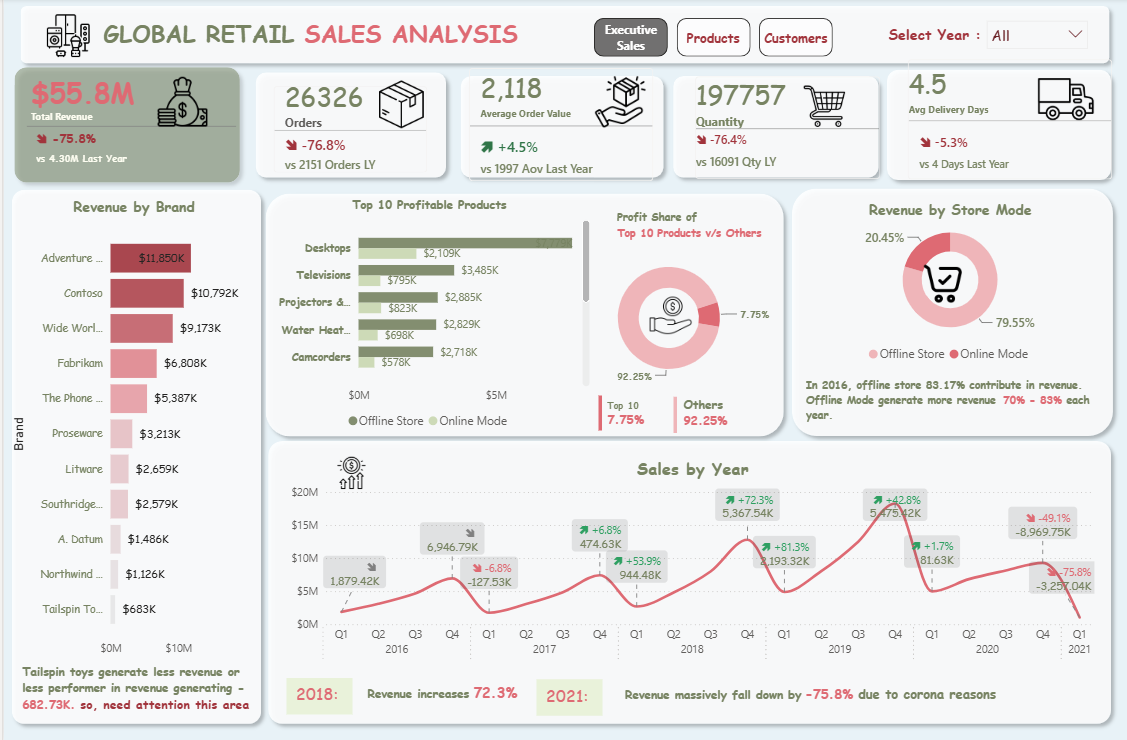

This screenshot's page, from the dashboard's own definition file:
{"tool":"powerbi","page":{"name":"Executive Sales ","canvas":[1280,850],"ordinal":0},"visuals":[{"type":"shape","box":[9.7,0,1258.3,83.2],"z":0},{"type":"shape","box":[2.8,69.8,274.9,149.5],"z":1000},{"type":"shape","box":[0,209.4,301.9,626.7],"z":2000},{"type":"shape","box":[277.7,75.5,235,138.2],"z":3000},{"type":"shape","box":[511.3,79.8,249,133.9],"z":4000},{"type":"cardVisual","fields":{"Data":["Key Measure.AOV"]},"box":[529.8,79.8,210.8,129.6],"z":5000},{"type":"shape","box":[888.7,207.8,383.8,300.1],"z":6000},{"type":"shape","box":[997,72.6,273.5,143.9],"z":7000},{"type":"cardVisual","fields":{"Data":["Key Measure.Avg Delivery Days"]},"box":[1030.1,69.3,233.7,137.1],"z":8000},{"type":"donutChart","title":"Revenue by Store Mode","fields":{"Category":["Sales.StoreMode"],"Y":["Key Measure.Total Revenue"]},"box":[904.4,226.5,347.5,198],"z":9000},{"type":"textbox","box":[908.7,425.9,346.1,69.8],"z":10000},{"type":"shape","box":[289.1,213.6,608.2,294.8],"z":11000},{"type":"shape","box":[292,495.6,978.5,340.4],"z":12000},{"type":"cardVisual","fields":{"Data":["Key Measure.Total Order"]},"box":[292,89.7,205.1,119.6],"z":13000},{"type":"clusteredBarChart","title":"Top 10 Profitable Products","fields":{"Y":["Key Measure.Profit"],"Category":["product.Subcategory"],"Series":["Sales.StoreMode"]},"box":[301.9,226.5,370.3,269.2],"z":14000},{"type":"donutChart","fields":{"Category":["product.Top5 vs Other"],"Y":["Key Measure.Profit"]},"box":[639.5,282,236.4,166.6],"z":15000},{"type":"textbox","box":[693.6,235,182.3,62.7],"z":16000},{"type":"shape","box":[656.6,452.9,45.6,39.9],"z":17000},{"type":"shape","box":[749.2,454.3,31.3,41.3],"z":18000},{"type":"textbox","box":[682.2,448.6,75.5,47],"z":19000},{"type":"textbox","box":[768.5,448.8,79.6,47.1],"z":20000},{"type":"cardVisual","fields":{"Data":["Key Measure.Total Revenue"]},"box":[25.6,82.6,239.3,126.8],"z":21000},{"type":"lineChart","title":"Sales by Year","fields":{"Y":["Key Measure.CY Sales"],"Category":["Date Table.year","Date Table.Quarter"]},"box":[321.9,522.7,925.8,242.1],"z":22000},{"type":"image","box":[1152.2,76.9,115.4,76.9],"z":23000},{"type":"image","box":[646.6,88.3,111.1,59.8],"z":24000},{"type":"image","box":[421.6,94,62,54.1],"z":25000},{"type":"image","box":[151,89.7,105.4,57],"z":26000},{"type":"image","box":[709.3,330.4,101.1,62.7],"z":27000},{"type":"image","box":[1029.7,297.7,79.8,55.5],"z":28000},{"type":"image","box":[370.3,522.7,51.3,37],"z":29000},{"type":"textbox","box":[108.2,15.7,485.7,57],"z":30000},{"type":"shape","box":[753.4,79.8,252.1,133.9],"z":31000},{"type":"clusteredBarChart","title":"Revenue by Brand","fields":{"Category":["product.Brand"],"Y":["Key Measure.Total Revenue"]},"box":[8.5,226.5,279.2,527],"z":32000},{"type":"cardVisual","fields":{"Data":["Key Measure.Quantity"]},"box":[769.1,86.9,233.6,119.6],"z":33000},{"type":"image","box":[888.7,99.7,92.6,47],"z":34000},{"type":"textbox","box":[321.9,774.8,75.5,41.3],"z":35000},{"type":"textbox","box":[408.8,774.8,185.2,41.3],"z":36000},{"type":"textbox","box":[606.7,776.2,75.5,41.3],"z":37000},{"type":"textbox","box":[702.2,777.7,465.7,41.3],"z":38000},{"type":"textbox","box":[15.7,753.4,272,71.2],"z":39000},{"type":"image","box":[38.5,18.5,69.8,48.4],"z":40000},{"type":"pageNavigator","box":[672.3,22.8,274.9,44.2],"z":41000},{"type":"slicer","fields":{"Values":["Date Table.year"]},"box":[1109.5,15.7,135.3,44.2],"z":42000},{"type":"textbox","box":[1002.7,25.6,118.2,35.6],"z":43000}]}

Visuals, with their boxes in screenshot pixels (x1, y1, x2, y2), scaled from the page's 1280x850 canvas onto the 1127x740 screenshot:
shape: 9 0 1116 72
shape: 2 61 245 191
shape: 0 182 266 728
shape: 245 66 451 186
shape: 450 69 669 186
cardVisual - Key Measure.AOV: 466 69 652 182
shape: 782 181 1120 442
shape: 878 63 1119 188
cardVisual - Key Measure.Avg Delivery Days: 907 60 1113 180
"Revenue by Store Mode" donutChart: 796 197 1102 370
textbox: 800 371 1105 432
shape: 255 186 790 443
shape: 257 431 1119 728
cardVisual - Key Measure.Total Order: 257 78 438 182
"Top 10 Profitable Products" clusteredBarChart: 266 197 592 432
donutChart - product.Top5 vs Other x Key Measure.Profit: 563 246 771 391
textbox: 611 205 771 259
shape: 578 394 618 429
shape: 660 396 687 431
textbox: 601 391 667 431
textbox: 677 391 747 432
cardVisual - Key Measure.Total Revenue: 23 72 233 182
"Sales by Year" lineChart: 283 455 1099 666
image: 1014 67 1116 134
image: 569 77 667 129
image: 371 82 426 129
image: 133 78 226 128
image: 625 288 714 342
image: 907 259 977 307
image: 326 455 371 487
textbox: 95 14 523 63
shape: 663 69 885 186
"Revenue by Brand" clusteredBarChart: 7 197 253 656
cardVisual - Key Measure.Quantity: 677 76 883 180
image: 782 87 864 128
textbox: 283 675 350 710
textbox: 360 675 523 710
textbox: 534 676 601 712
textbox: 618 677 1028 713
textbox: 14 656 253 718
image: 34 16 95 58
pageNavigator: 592 20 834 58
slicer - Date Table.year: 977 14 1096 52
textbox: 883 22 987 53
